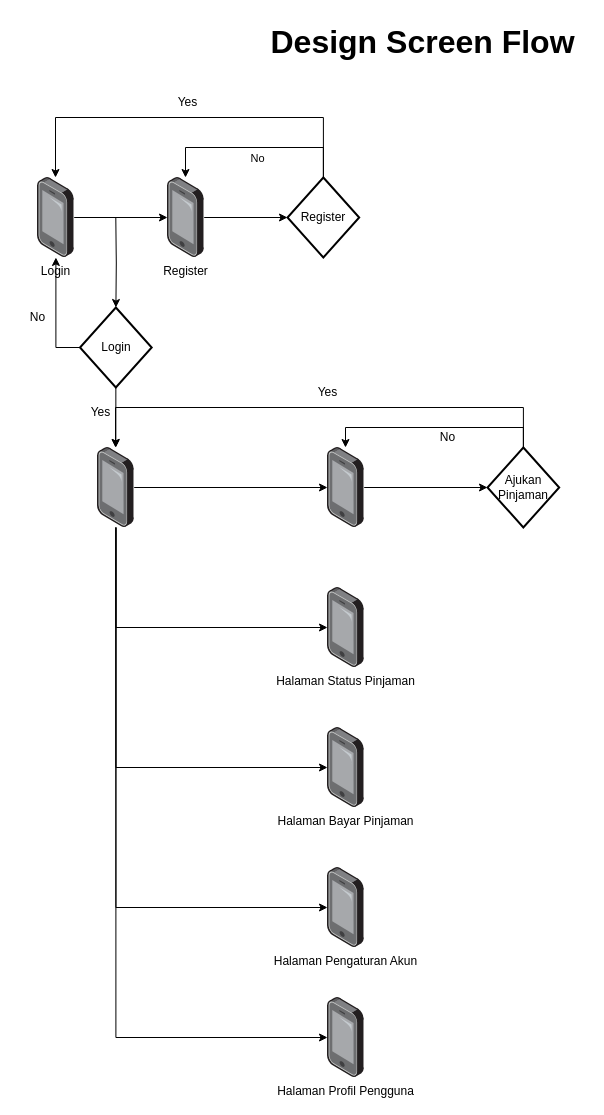
Some shapes in this 604 by 1115 pixel diagram are drawn without their labels. Each missing label, with the centre of its shape:
Halaman Pengajuan Pinjaman: pixel 345 487
Halaman Utama: pixel 115 487
